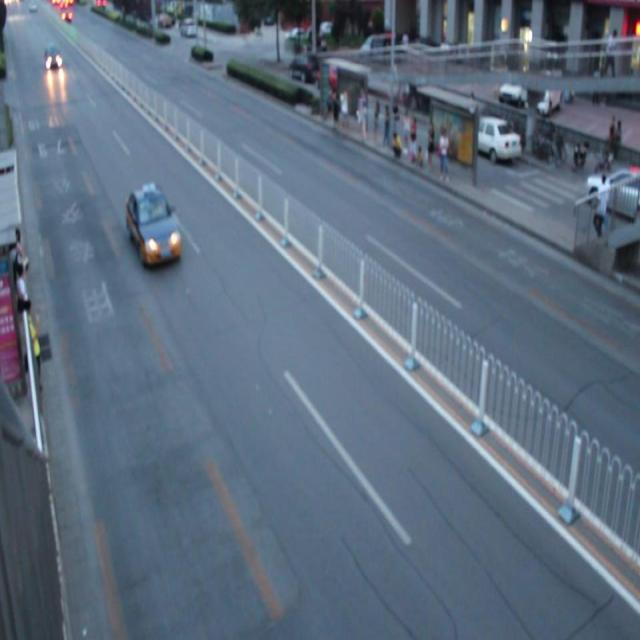car: (126, 185, 183, 269)
